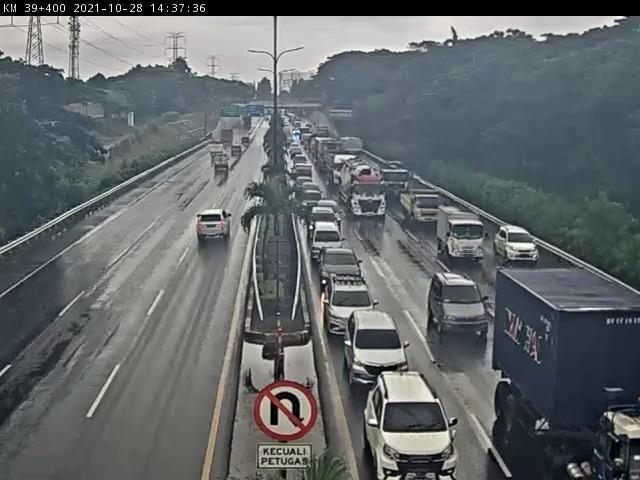car: (363, 367, 463, 480), (341, 304, 414, 392), (424, 272, 488, 343), (322, 272, 381, 343), (318, 244, 366, 296), (492, 220, 543, 263), (190, 206, 237, 248), (311, 217, 348, 265), (308, 206, 343, 241), (314, 199, 344, 235), (299, 189, 328, 218)
truck: (487, 261, 640, 480), (434, 204, 485, 263), (338, 158, 386, 218), (398, 185, 441, 226)
